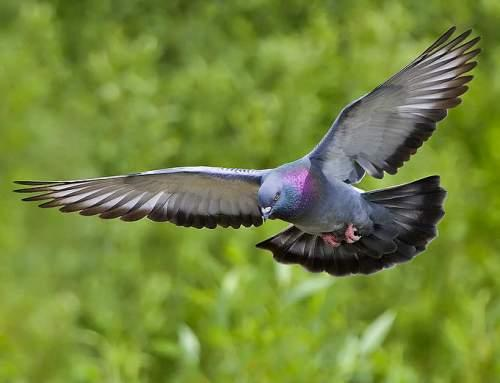Flying Rat: (36, 28, 483, 300)
